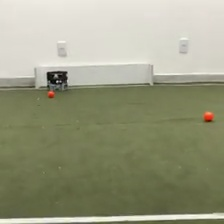ball: (203, 109, 214, 121), (46, 88, 55, 98)
goal: (32, 61, 156, 91)
robot: (45, 69, 69, 92)
